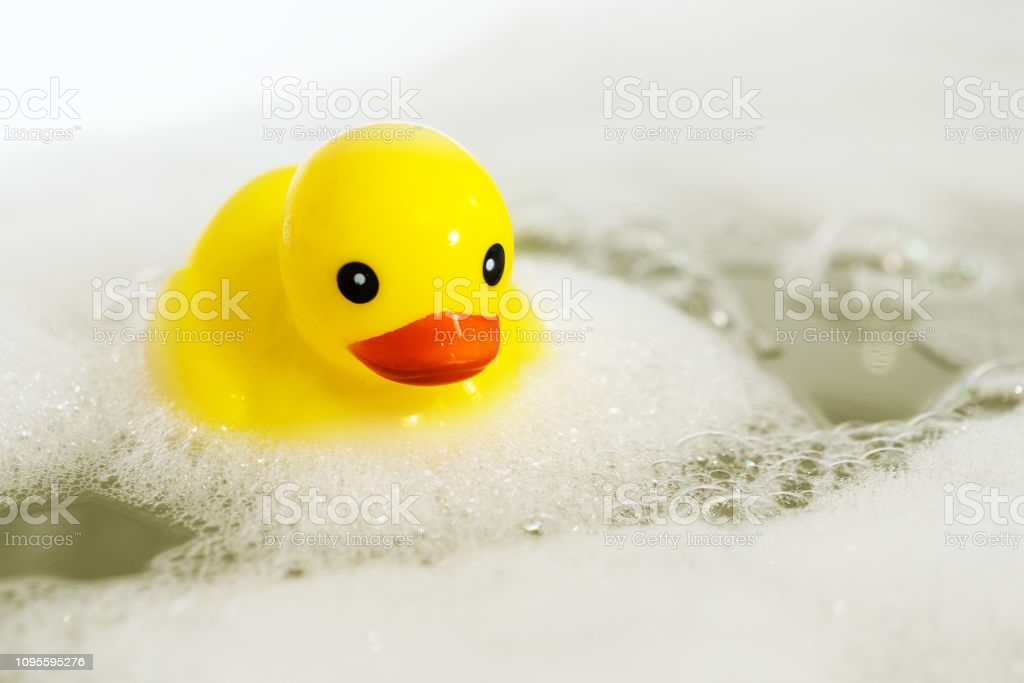Duck: (139, 118, 550, 465)
